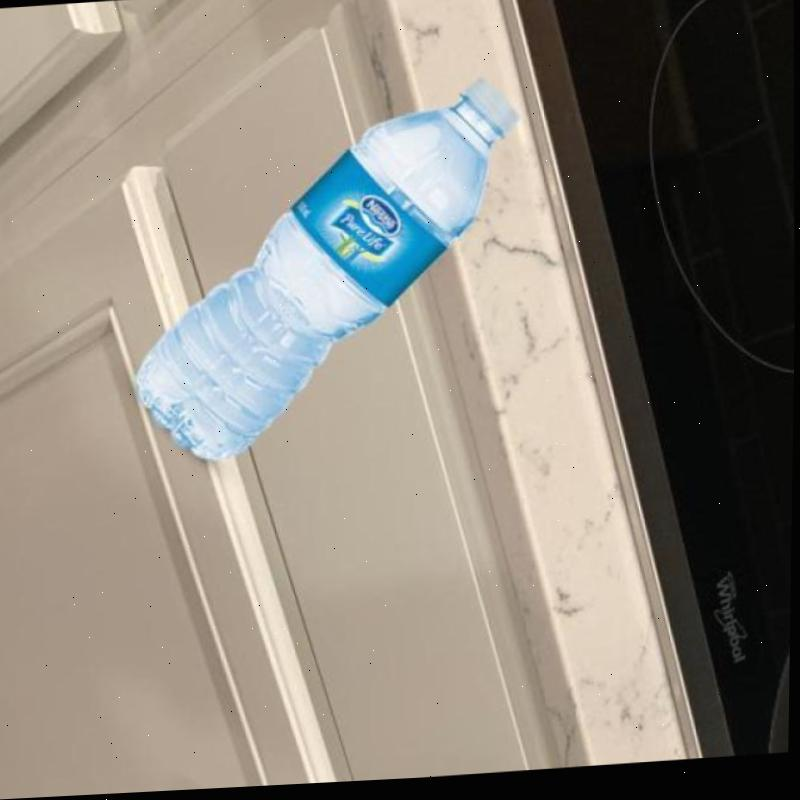botella: (128, 84, 530, 467)
